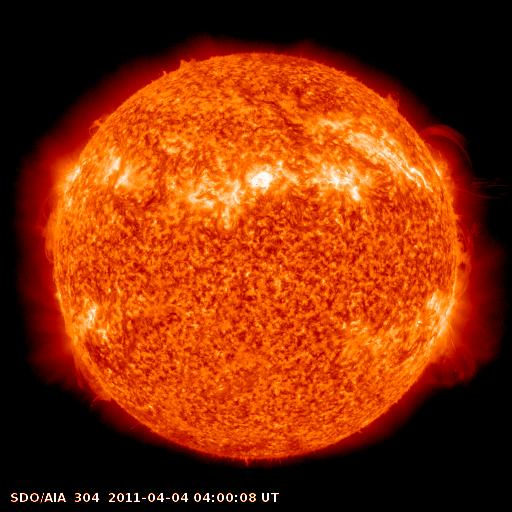prominence: (411, 113, 512, 203), (450, 212, 497, 301), (28, 188, 69, 269), (70, 345, 119, 410), (373, 78, 410, 114), (83, 103, 113, 139)
